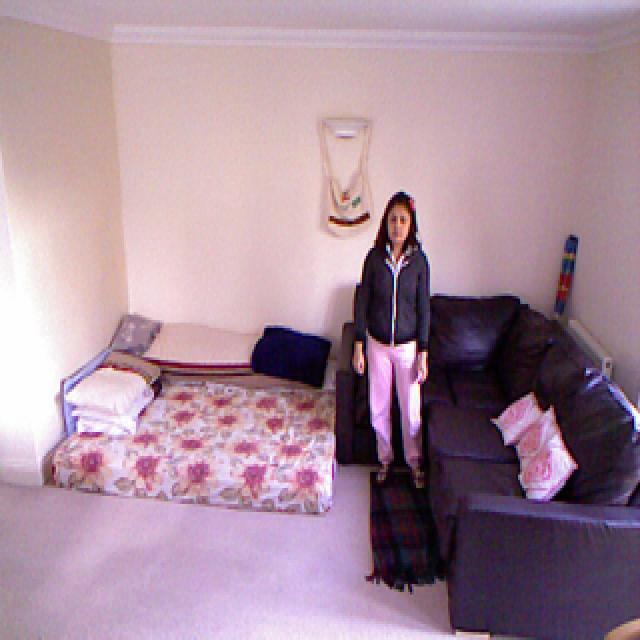standing: (348, 176, 458, 501)
